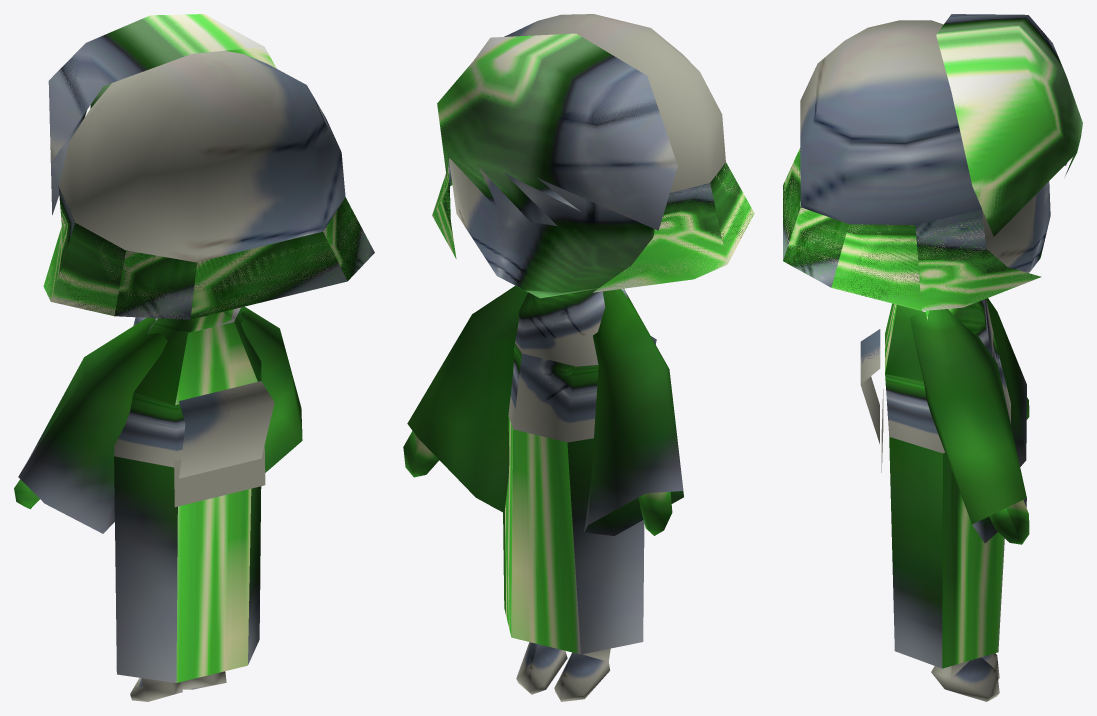
The model's file is icon.ico.obj.
The picture shows the model from 3 angles, left to right: view 1: azimuth 30°, elevation 25°; view 2: azimuth 150°, elevation 25°; view 3: azimuth 270°, elevation 25°; orthographic projection. The views are drawn at different scales.
Bounding box in the file's own units: 2.3 × 4.95 × 2.03.
